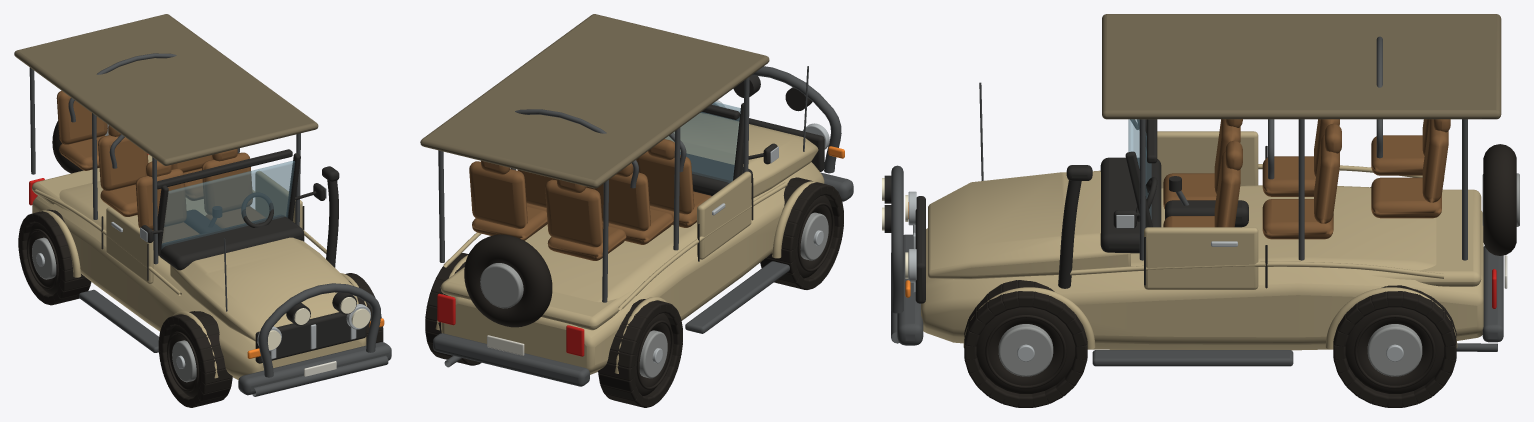
File: game-drive-realistic.glb
3 renders of one model, left to right at view 1: azimuth 30°, elevation 25°; view 2: azimuth 150°, elevation 25°; view 3: azimuth 270°, elevation 25°, orthographic. The views are drawn at different scales.
Parts seen in each view (by area): view 1: Canvas canopy, Curved bonnet, Sculpted lower body, Windshield glass, Dashboard, Front grille, Bullbar upper, Front half-door -1, Front bumper, Driver back, Row0L back, Passenger back (+30 smaller); view 2: Canvas canopy, Sculpted lower body, Curved bonnet, Spare tyre, Windshield glass, Rear bumper, Row1R back, Row1L back, Front half-door -1, Rear load floor, Passenger back, Row0L back (+32 smaller); view 3: Canvas canopy, Sculpted lower body, Curved bonnet, Front half-door 1, Rear load floor, Rear wheel 0.98 tyre, Front wheel 0.98 tyre, Dashboard, Spare tyre, Front half-door -1, Side step 1, Row1R cushion (+28 smaller).
Boxes of the visible parts, bbox=[...] form: Canvas canopy: bbox=[14, 14, 318, 165]; Curved bonnet: bbox=[170, 237, 358, 341]; Sculpted lower body: bbox=[32, 181, 366, 379]; Windshield glass: bbox=[161, 160, 294, 249]; Dashboard: bbox=[159, 215, 303, 270]; Front grille: bbox=[255, 312, 366, 363]; Bullbar upper: bbox=[258, 283, 381, 377]; Front half-door -1: bbox=[106, 207, 153, 283]; Front bumper: bbox=[238, 342, 391, 395]; Driver back: bbox=[202, 152, 252, 214]; Row0L back: bbox=[98, 135, 148, 190]; Passenger back: bbox=[135, 169, 186, 229]; Canvas canopy: bbox=[420, 14, 769, 188]; Sculpted lower body: bbox=[441, 162, 824, 374]; Curved bonnet: bbox=[665, 113, 818, 198]; Spare tyre: bbox=[464, 234, 552, 327]; Windshield glass: bbox=[665, 102, 740, 182]; Rear bumper: bbox=[433, 333, 589, 386]; Row1R back: bbox=[469, 161, 527, 228]; Row1L back: bbox=[545, 179, 602, 247]; Front half-door -1: bbox=[697, 171, 751, 259]; Rear load floor: bbox=[440, 267, 636, 330]; Passenger back: bbox=[636, 151, 694, 214]; Row0L back: bbox=[593, 172, 650, 231]; Canvas canopy: bbox=[1102, 14, 1501, 119]; Sculpted lower body: bbox=[921, 185, 1483, 350]; Curved bonnet: bbox=[928, 171, 1130, 279]; Front half-door 1: bbox=[1144, 227, 1258, 289]; Rear load floor: bbox=[1372, 189, 1481, 286]; Rear wheel 0.98 tyre: bbox=[1345, 307, 1444, 393]; Front wheel 0.98 tyre: bbox=[976, 307, 1075, 393]; Dashboard: bbox=[1100, 157, 1161, 253]; Spare tyre: bbox=[1483, 144, 1516, 255]; Front half-door -1: bbox=[1157, 131, 1258, 188]; Side step 1: bbox=[1092, 350, 1293, 366]; Row1R cushion: bbox=[1371, 177, 1441, 218].
Bounding box in the file's own units: 2.38 × 2.83 × 5.46.
